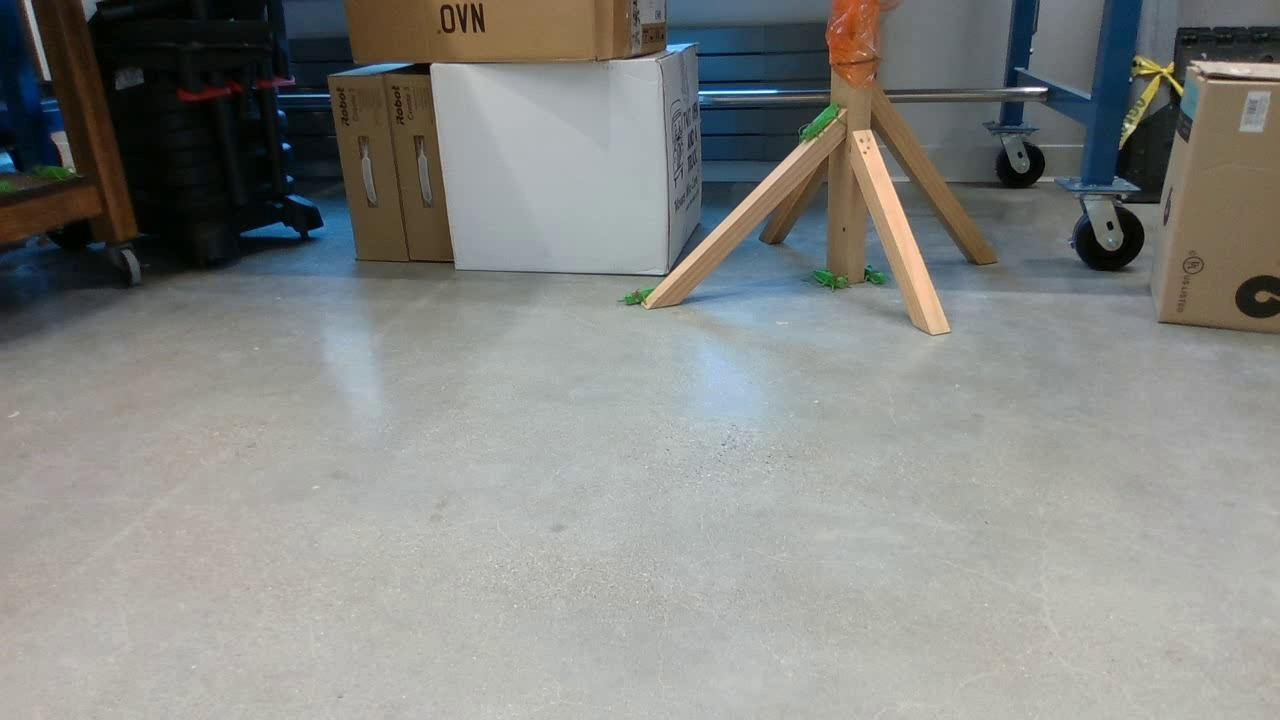grasshopper: (792, 92, 845, 159), (807, 254, 845, 298), (610, 282, 662, 308), (860, 254, 888, 290)
